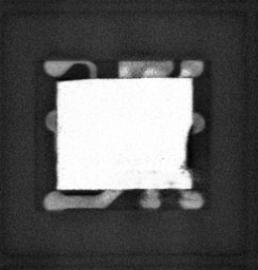DIE_BROKEN: (182, 125, 195, 174)
